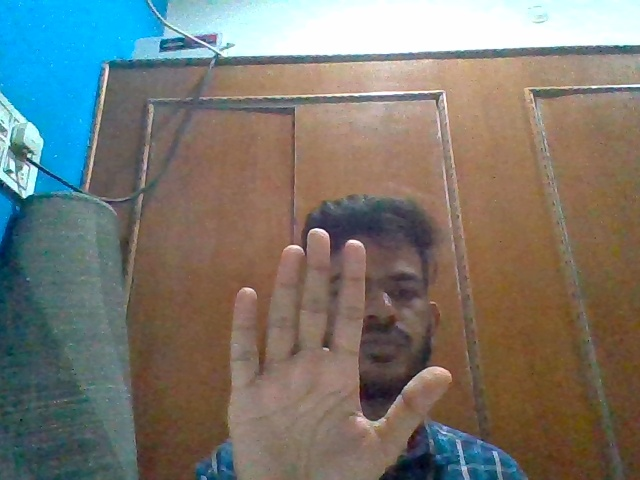hello: (225, 225, 459, 480)
